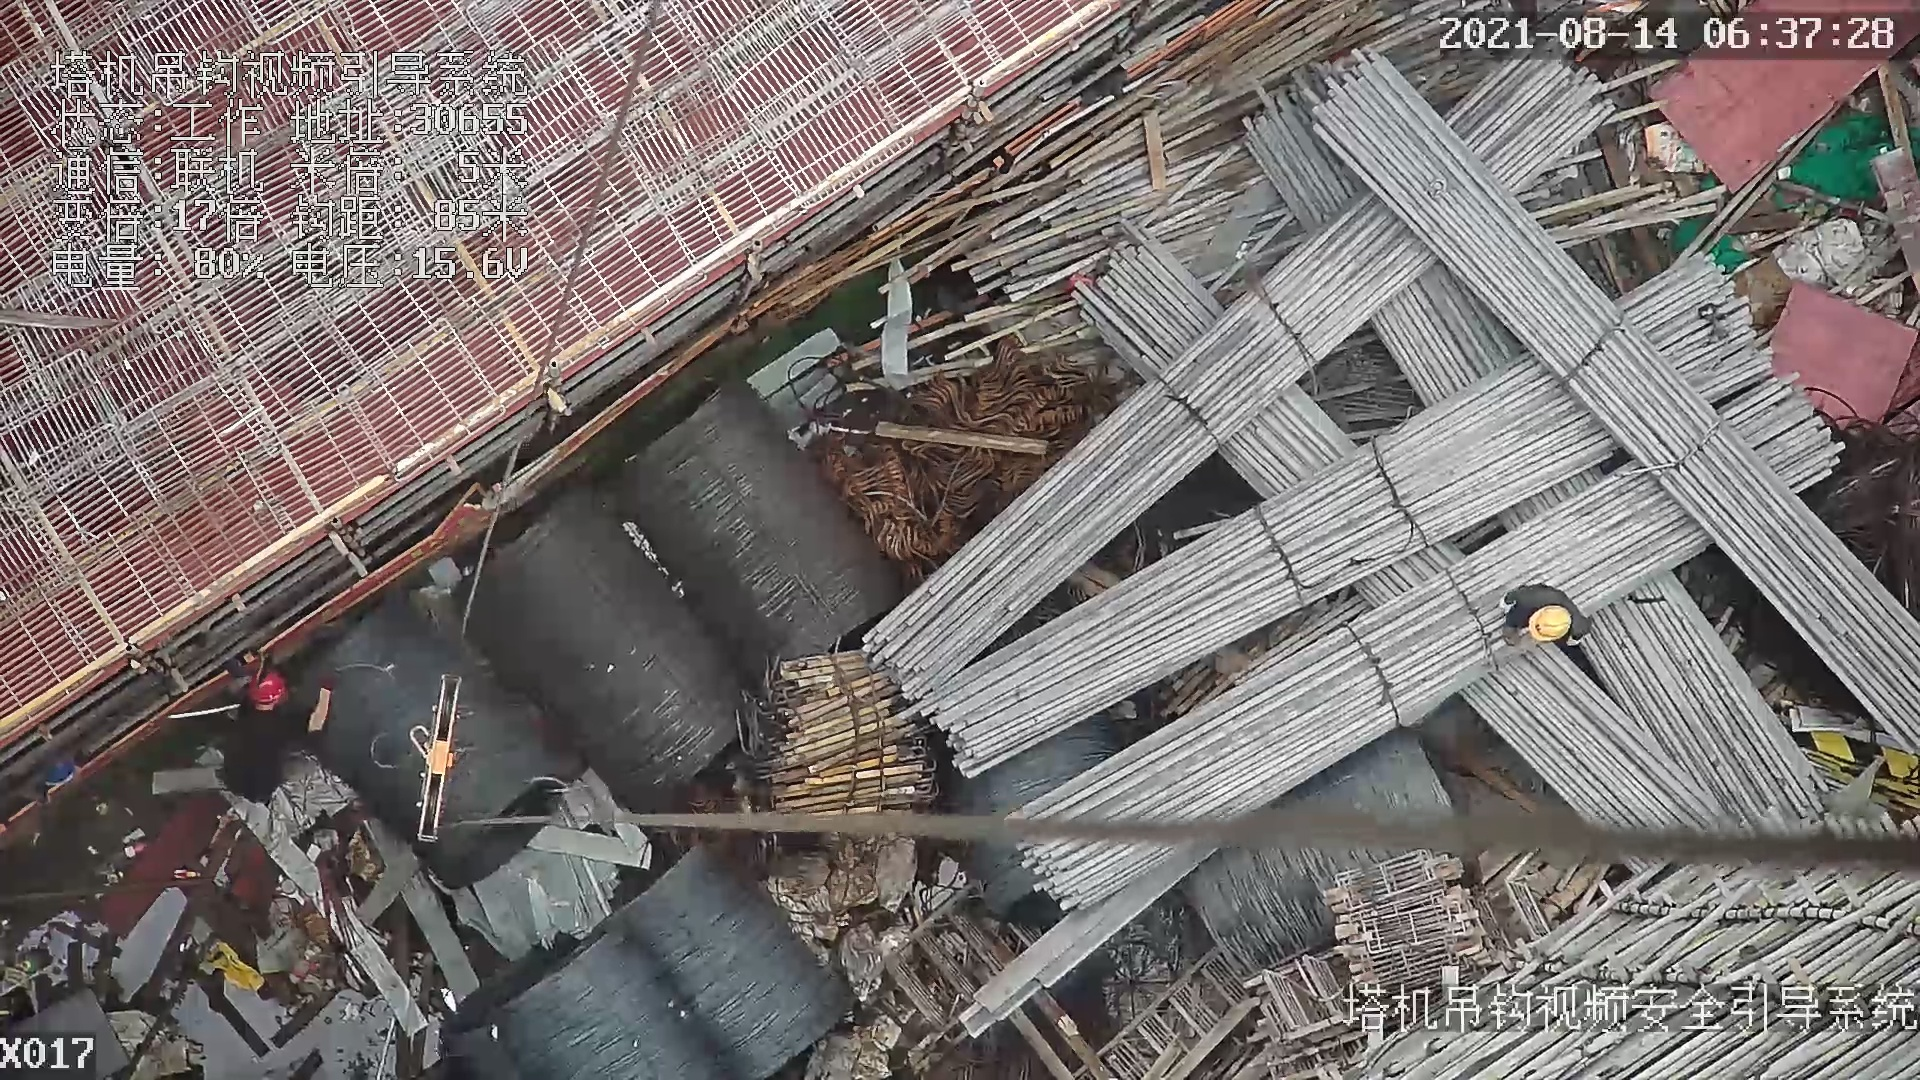hook: (403, 667, 468, 850)
person: (194, 669, 333, 803), (1501, 578, 1601, 655), (1525, 600, 1571, 650), (245, 669, 290, 708)
scaffold: (947, 58, 1919, 856), (740, 630, 974, 810)
